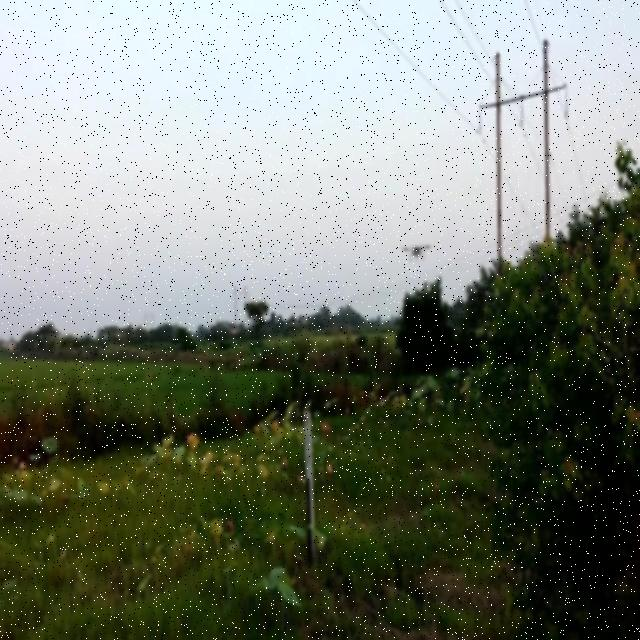UAV: (400, 244, 434, 262)
